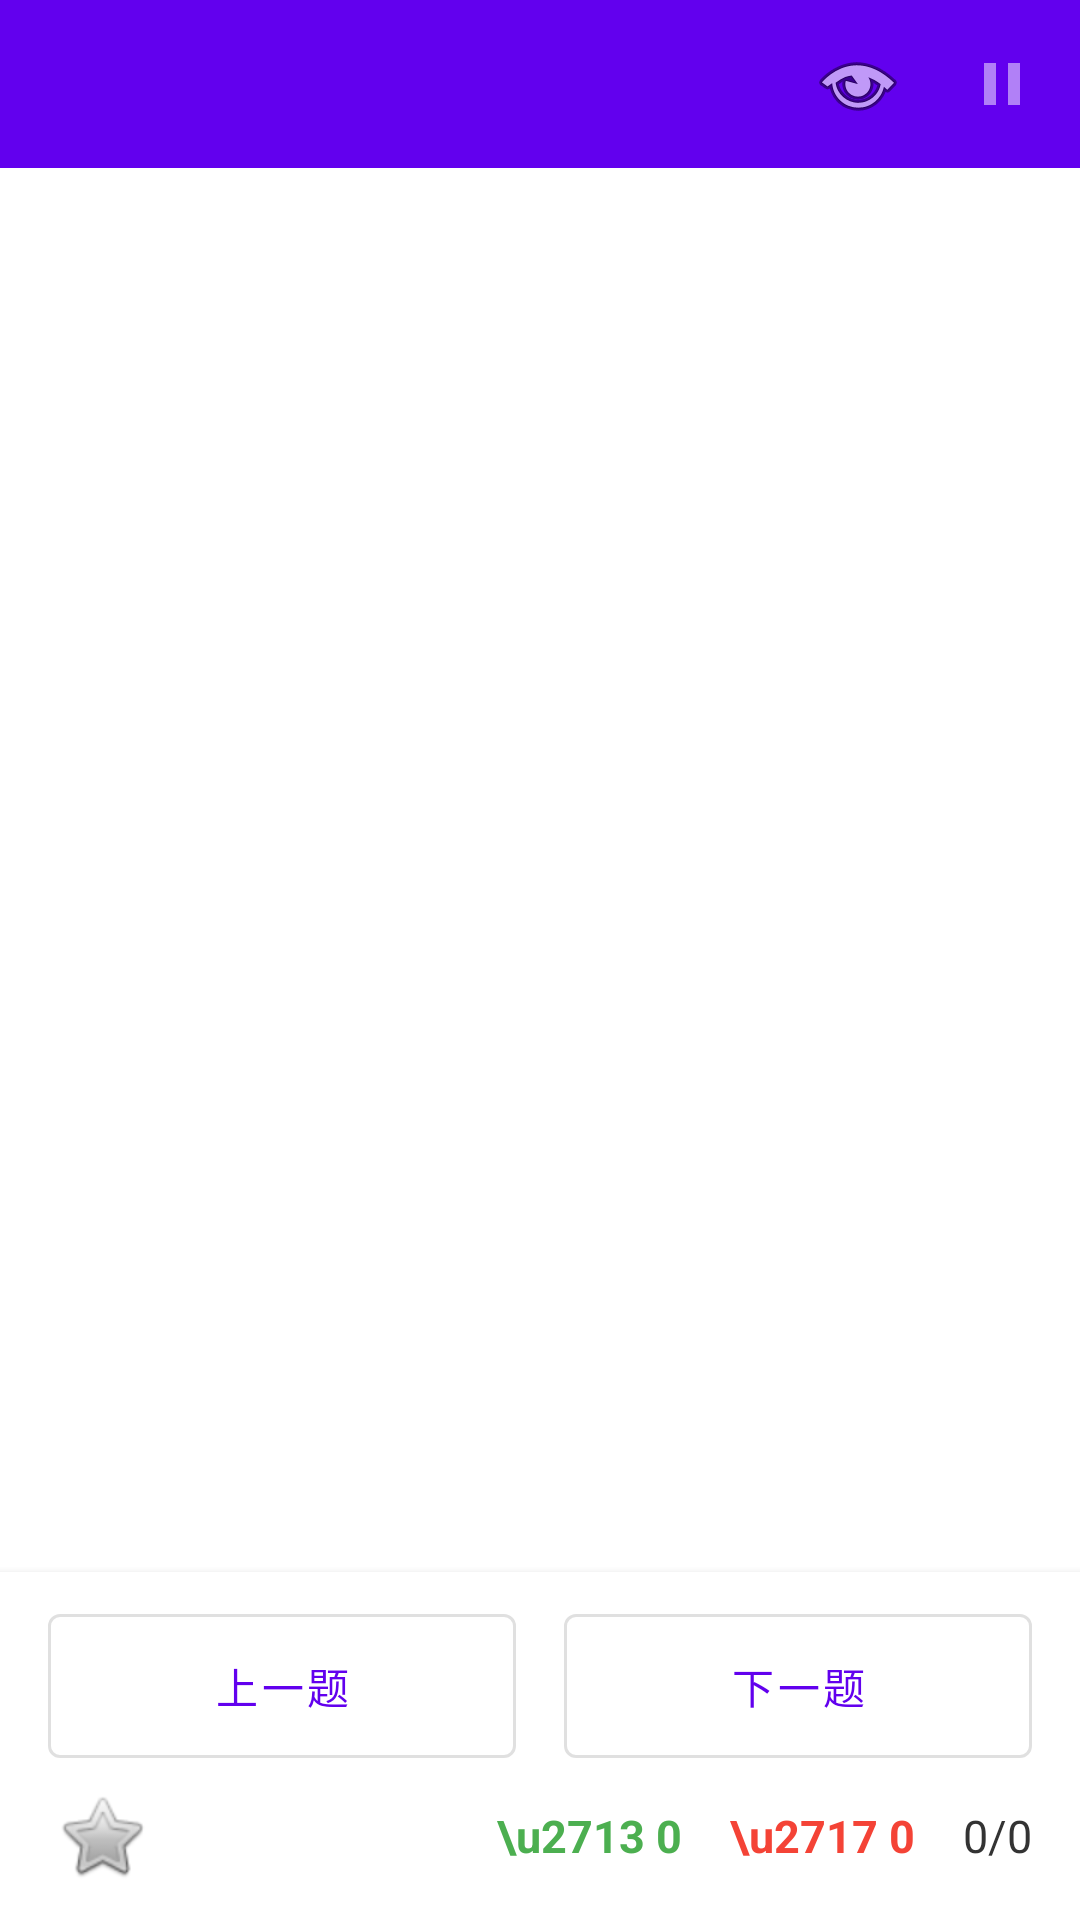

Screen size 1080*1920. Icon name, then its box in pixels as [x1, y1, x2, y2]:
收藏: [63, 1798, 143, 1876]
背题: [819, 62, 897, 111]
